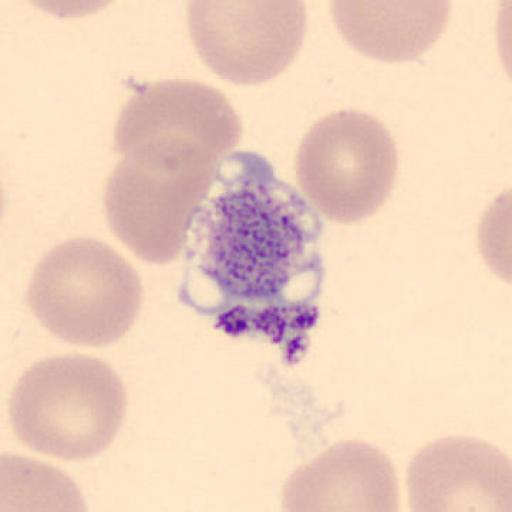Platelet: (178, 154, 327, 326)
RBC: (101, 134, 219, 268), (23, 234, 145, 350), (7, 350, 130, 464), (112, 77, 244, 178), (293, 105, 400, 226), (184, 0, 310, 89), (102, 156, 202, 266), (279, 437, 402, 512), (404, 431, 512, 512), (327, 0, 453, 66), (2, 450, 90, 512), (476, 187, 512, 287), (13, 0, 128, 21), (492, 0, 512, 87)
